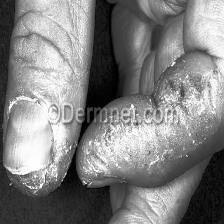Non-Cancerous Skin Condition: (82, 50, 224, 185), (11, 101, 74, 190)
